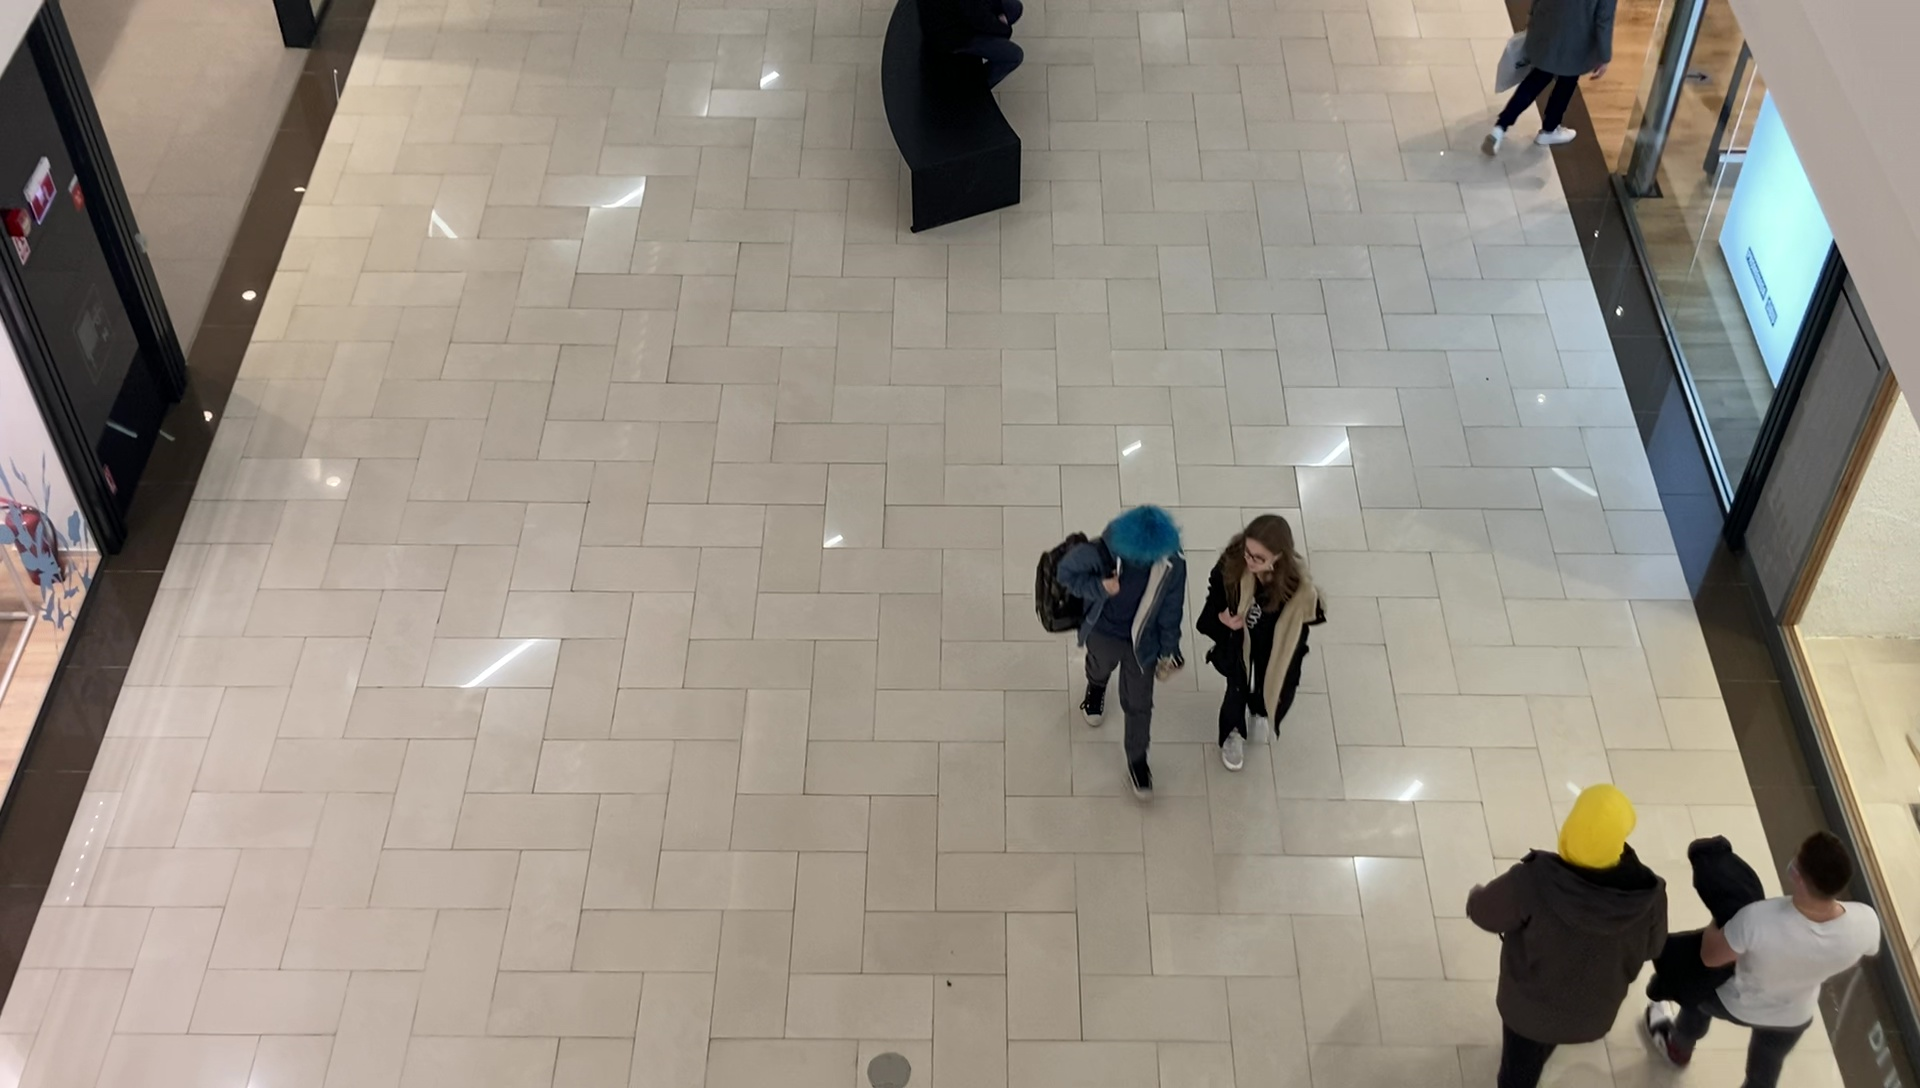person: (1471, 783, 1671, 1088), (1703, 831, 1885, 1088), (1061, 506, 1182, 801), (1198, 514, 1326, 773), (1484, 1, 1616, 155)
